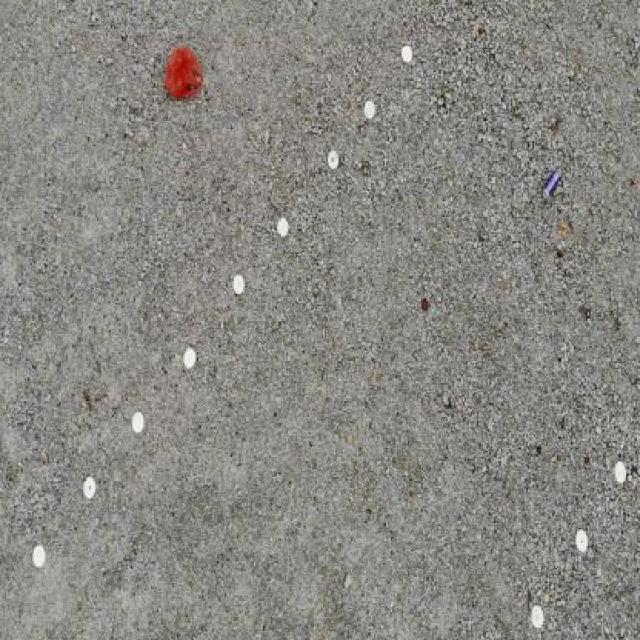Garbage: (162, 45, 204, 97), (542, 166, 561, 202), (421, 297, 428, 312)
